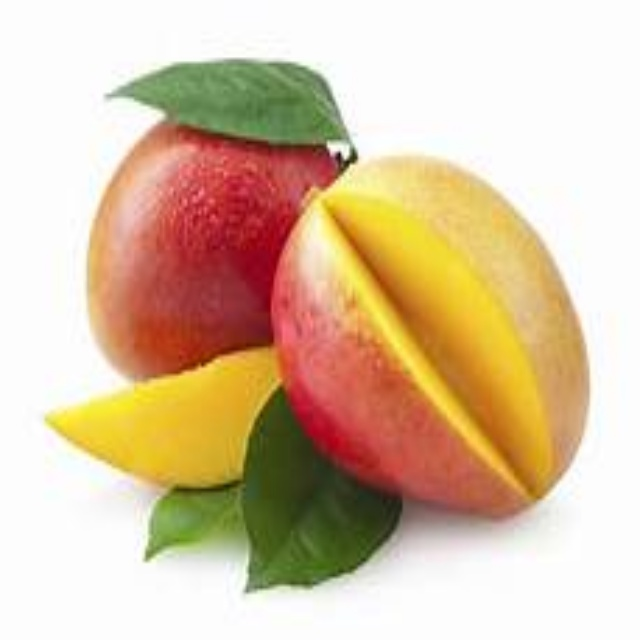mango: (277, 151, 582, 515), (54, 115, 343, 494)
